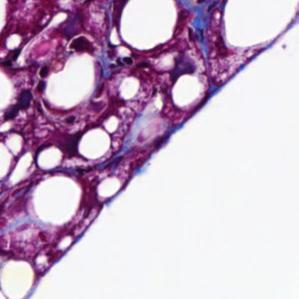inflammation: (0, 87, 41, 127), (59, 28, 108, 61)
